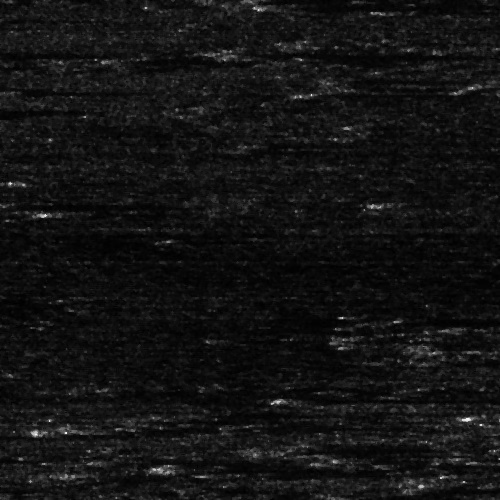object: (152, 43, 309, 64), (227, 440, 332, 451), (152, 407, 245, 418), (98, 460, 191, 471), (0, 207, 83, 216), (367, 315, 420, 324), (226, 0, 279, 9), (270, 87, 333, 94), (438, 411, 500, 418), (264, 393, 327, 398), (357, 199, 420, 204), (151, 237, 192, 242), (482, 87, 500, 98), (482, 423, 500, 430), (0, 199, 13, 208), (0, 87, 13, 94)
shadow: (231, 43, 431, 64), (145, 460, 353, 471), (253, 0, 500, 9), (280, 440, 425, 451), (199, 407, 341, 418), (0, 199, 170, 208), (0, 429, 115, 440), (41, 207, 169, 216), (296, 393, 500, 398), (394, 315, 500, 324), (302, 87, 435, 94), (0, 87, 104, 94), (0, 46, 70, 55), (389, 199, 458, 204), (172, 237, 239, 242), (475, 411, 500, 418)
